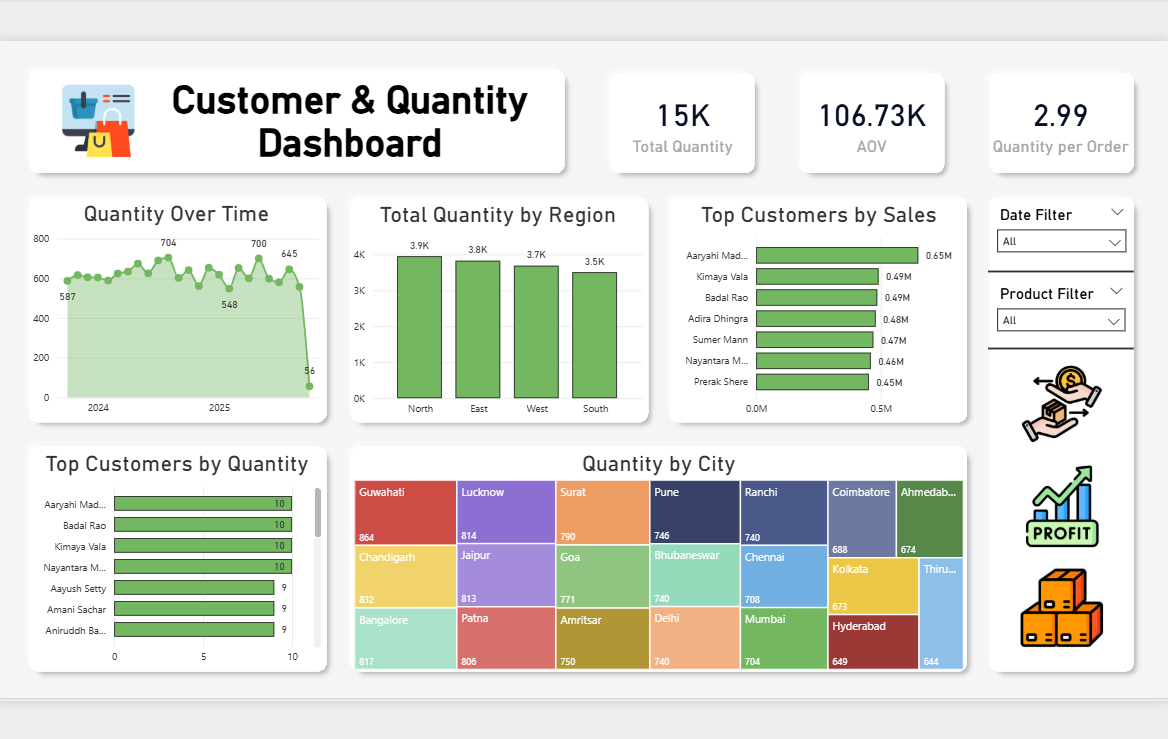

Layout of this report page (visuals, bound fields, positions):
{"tool":"powerbi","page":{"name":"Quantity","canvas":[1280,720],"ordinal":2},"visuals":[{"type":"shape","box":[152.3,31,467.1,112.3],"z":0},{"type":"image","box":[51.6,42.6,121.3,89],"z":1000},{"type":"card","fields":{"Values":["Ecommerce_Sales_Data_2024_2025.Total Quantity"]},"box":[669.7,32.3,158.7,111],"z":2000},{"type":"areaChart","title":"Quantity Over Time","fields":{"Category":["Ecommerce_Sales_Data_2024_2025.Order Date.Variation.Date Hierarchy.Year","Ecommerce_Sales_Data_2024_2025.Order Date.Variation.Date Hierarchy.Quarter","Ecommerce_Sales_Data_2024_2025.Order Date.Variation.Date Hierarchy.Month","Ecommerce_Sales_Data_2024_2025.Order Date.Variation.Date Hierarchy.Day"],"Y":["Ecommerce_Sales_Data_2024_2025.Total Quantity"]},"box":[34.9,174.6,324.1,243.3],"z":3000},{"type":"clusteredColumnChart","fields":{"Category":["Ecommerce_Sales_Data_2024_2025.Region"],"Y":["Ecommerce_Sales_Data_2024_2025.Total Quantity"]},"box":[385.1,175.2,325.1,243.1],"z":4000},{"type":"clusteredBarChart","title":"Top Customers by Sales","fields":{"Category":["Ecommerce_Sales_Data_2024_2025.Customer Name"],"Y":["Ecommerce_Sales_Data_2024_2025.Total Sales"]},"box":[735.5,175.2,325.1,243.1],"z":5000},{"type":"clusteredBarChart","title":"Top Customers by Quantity","fields":{"Y":["Ecommerce_Sales_Data_2024_2025.Total Quantity"],"Category":["Ecommerce_Sales_Data_2024_2025.Customer Name"]},"box":[34.9,447.4,325.2,242.3],"z":6000},{"type":"treemap","title":"Quantity by City","fields":{"Values":["Ecommerce_Sales_Data_2024_2025.Total Quantity"],"Group":["Ecommerce_Sales_Data_2024_2025.City"]},"box":[386.3,447.4,674.4,243.3],"z":7000},{"type":"slicer","fields":{"Values":["Ecommerce_Sales_Data_2024_2025.Order Date.Variation.Date Hierarchy.Year","Ecommerce_Sales_Data_2024_2025.Order Date.Variation.Date Hierarchy.Month"]},"box":[1082.6,174.2,161.3,71],"z":8000},{"type":"slicer","fields":{"Values":["Ecommerce_Sales_Data_2024_2025.Product Details.Category","Ecommerce_Sales_Data_2024_2025.Product Details.Sub-Category","Ecommerce_Sales_Data_2024_2025.Product Details.Product Name"]},"box":[1082.6,260.6,160,71],"z":9000},{"type":"shape","box":[1082.4,245.5,159.3,12],"z":10000},{"type":"shape","box":[1082.4,331.7,159.3,7.6],"z":11000},{"type":"image","box":[1112.7,457.8,100.4,99.3],"z":12000},{"type":"image","box":[1112.7,568.5,100.4,100.4],"z":13000},{"type":"image","box":[1112.7,345.9,100.4,100.4],"z":14000},{"type":"card","fields":{"Values":["Ecommerce_Sales_Data_2024_2025.AOV"]},"box":[876.1,32.3,158.7,111],"z":15000},{"type":"card","fields":{"Values":["Ecommerce_Sales_Data_2024_2025.Quantity per Order"]},"box":[1082.6,32.3,158.7,111],"z":16000}]}

Visuals, with their boxes on the page's 1280x720 design canvas (x1, y1, x2, y2). These are canvas units, not pixel positions in the 1168x739 screenshot, which may show the page scaled, cropped or inside an application window:
shape: box(152, 31, 619, 143)
image: box(52, 43, 173, 132)
card - Ecommerce_Sales_Data_2024_2025.Total Quantity: box(670, 32, 828, 143)
"Quantity Over Time" areaChart: box(35, 175, 359, 418)
clusteredColumnChart - Ecommerce_Sales_Data_2024_2025.Region x Ecommerce_Sales_Data_2024_2025.Total Quantity: box(385, 175, 710, 418)
"Top Customers by Sales" clusteredBarChart: box(736, 175, 1061, 418)
"Top Customers by Quantity" clusteredBarChart: box(35, 447, 360, 690)
"Quantity by City" treemap: box(386, 447, 1061, 691)
slicer - Ecommerce_Sales_Data_2024_2025.Order Date.Variation.Date Hierarchy.Year x Ecommerce_Sales_Data_2024_2025.Order Date.Variation.Date Hierarchy.Month: box(1083, 174, 1244, 245)
slicer - Ecommerce_Sales_Data_2024_2025.Product Details.Category x Ecommerce_Sales_Data_2024_2025.Product Details.Sub-Category: box(1083, 261, 1243, 332)
shape: box(1082, 246, 1242, 258)
shape: box(1082, 332, 1242, 339)
image: box(1113, 458, 1213, 557)
image: box(1113, 568, 1213, 669)
image: box(1113, 346, 1213, 446)
card - Ecommerce_Sales_Data_2024_2025.AOV: box(876, 32, 1035, 143)
card - Ecommerce_Sales_Data_2024_2025.Quantity per Order: box(1083, 32, 1241, 143)
